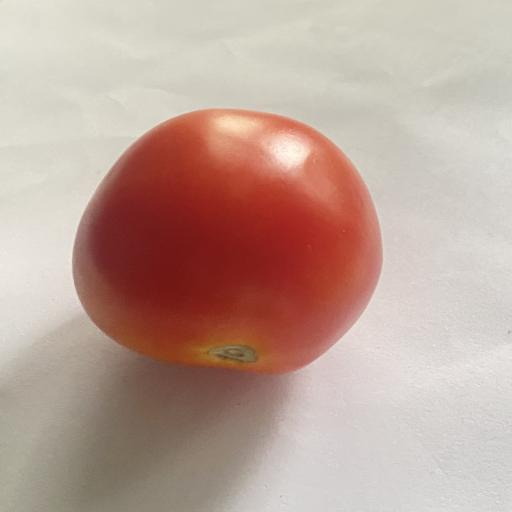ripe: (72, 109, 382, 373)
